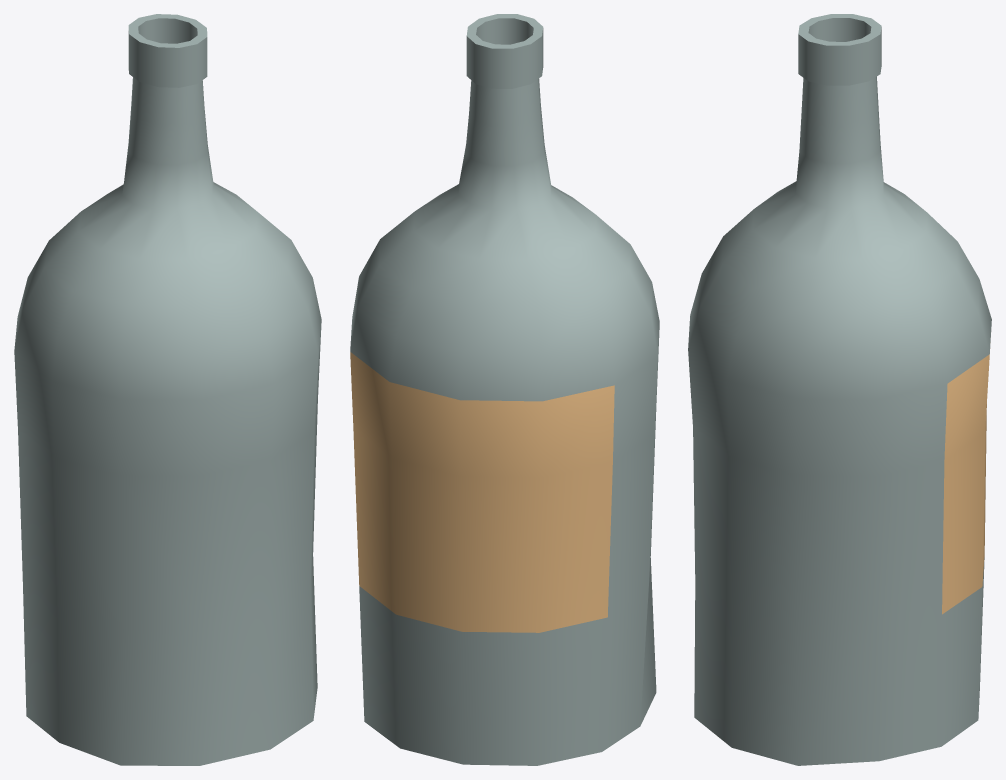
File: garrafa.fbx
3 views of the same model, side by side, from view 1: azimuth 30°, elevation 25°; view 2: azimuth 150°, elevation 25°; view 3: azimuth 270°, elevation 25° (orthographic).
Visible parts, largest first — view 1: garrafa; view 2: garrafa; view 3: garrafa.
Part boxes in pixels (x1,y1,x2,y2): garrafa: (14,14,321,765); garrafa: (350,14,659,765); garrafa: (688,14,991,765).
Size of the model in its own units: 11.07 by 26.56 by 10.86.
